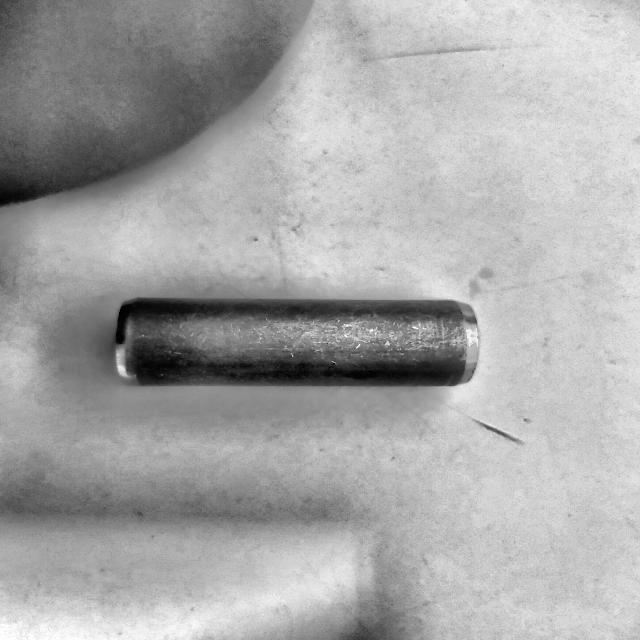Broken: (116, 296, 478, 388)
